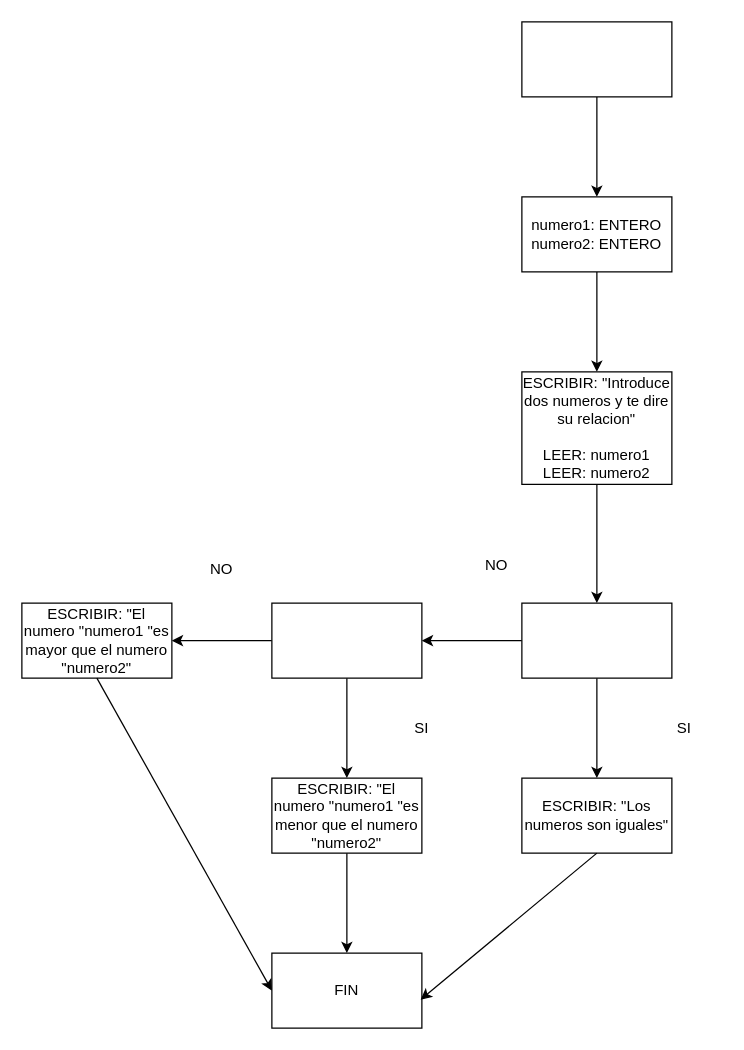
Some shapes in this 744 by 1050 pixel diagram are drawn without their labels. Each missing label, with the centre of its shape:
INICIO: the point at 596,59
numero1<numero2: the point at 346,640
numero1==numero2: the point at 596,640
